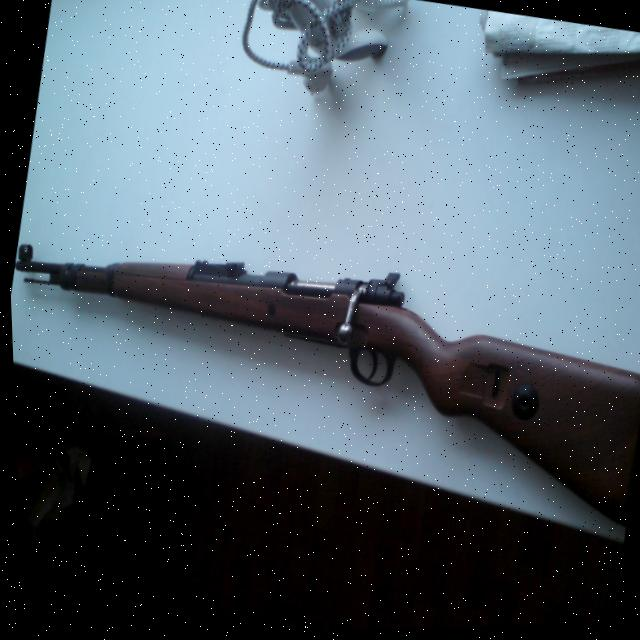firearm: (6, 203, 640, 543)
